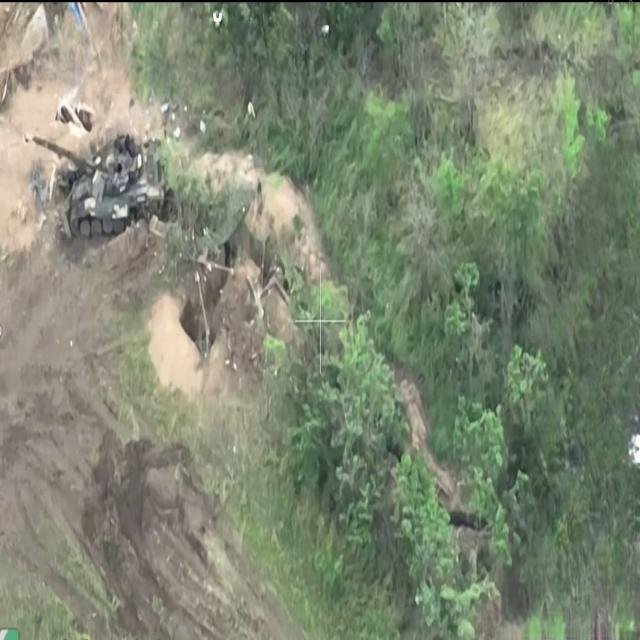MBT: (31, 132, 171, 240)
